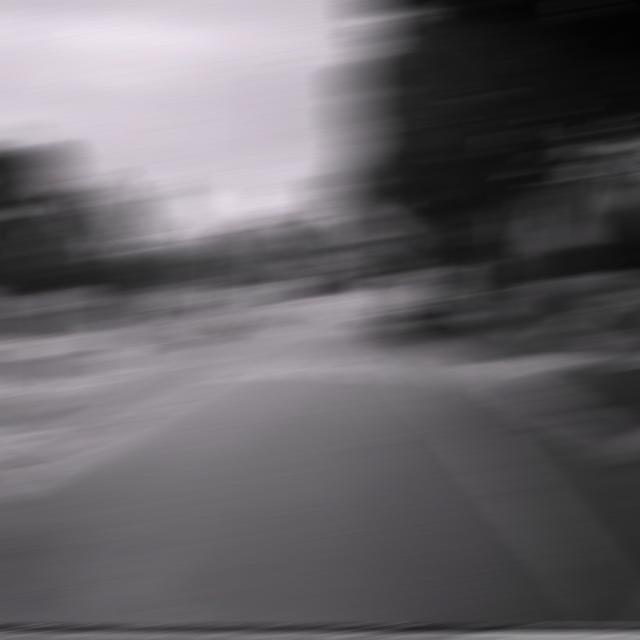pedestrianCrossing: (134, 174, 187, 229)
